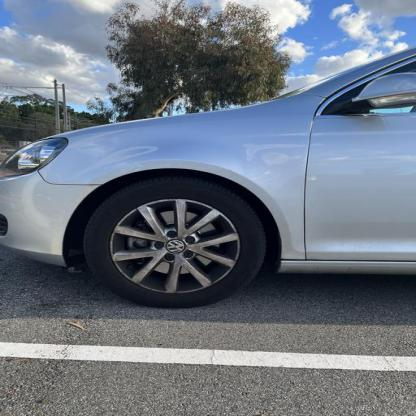Tire: (81, 178, 270, 307)
